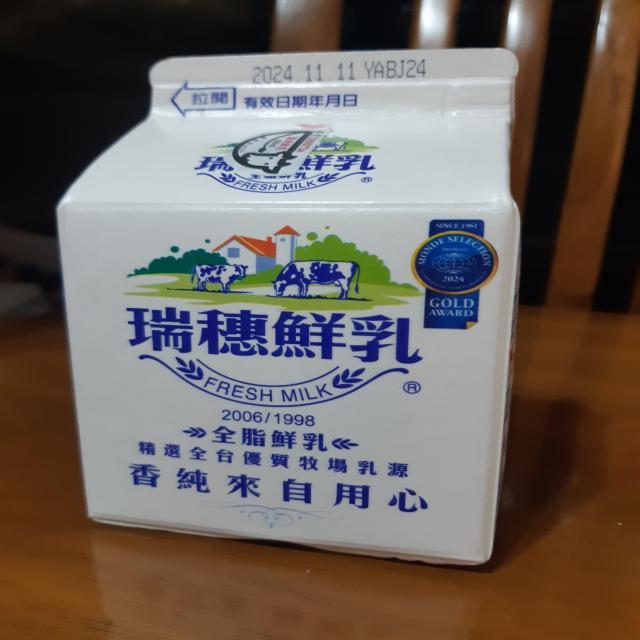RuiSui_Milk: (52, 46, 532, 580)
